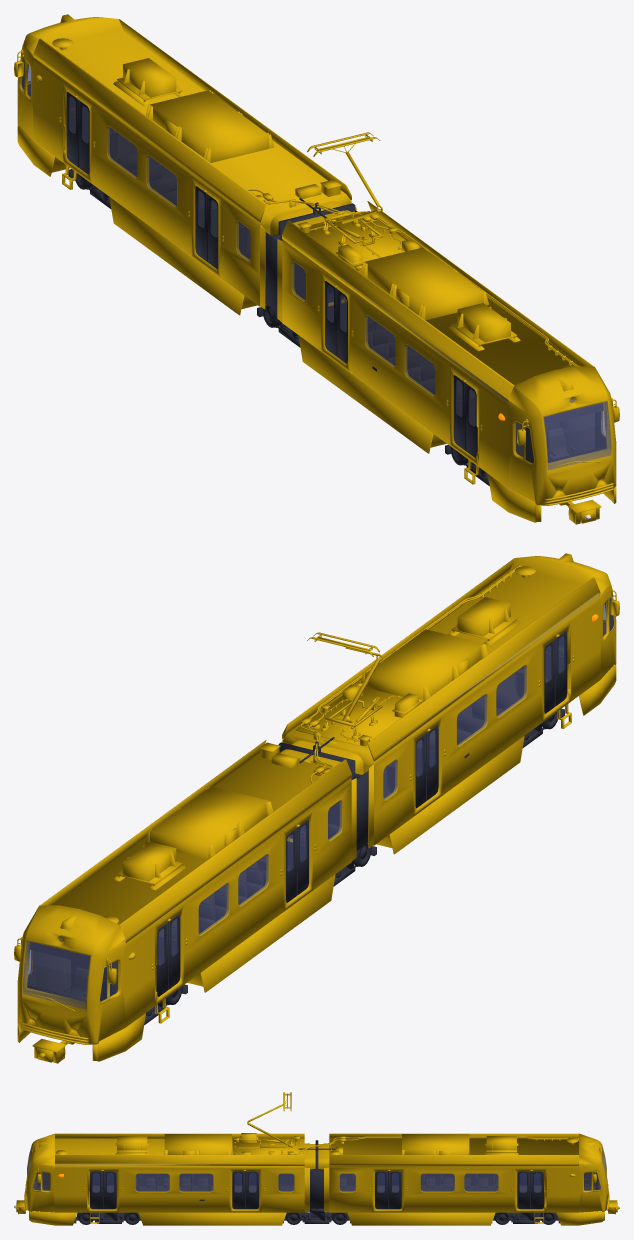
File: tren.glb
3 views of the same model, one above another, from view 1: azimuth 30°, elevation 25°; view 2: azimuth 150°, elevation 25°; view 3: azimuth 270°, elevation 25° (orthographic). The views are drawn at different scales.
Visible parts, largest first — view 1: rdgl_5; view 2: rdgl_5; view 3: rdgl_5.
Boxes of the visible parts, x1,y1,x2,y2 form: rdgl_5: (14,14,619,524); rdgl_5: (14,553,619,1063); rdgl_5: (14,1092,619,1225).
Size of the model in its own units: 0.6494 by 1.32 by 6.11.
